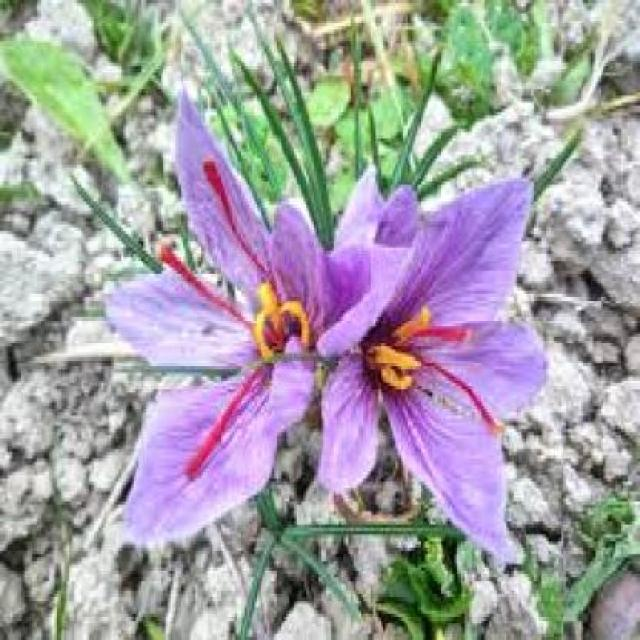Flower: (105, 100, 328, 546), (313, 169, 542, 553)
stigma: (174, 360, 270, 484), (151, 239, 253, 335), (196, 144, 264, 277), (412, 347, 504, 442)
